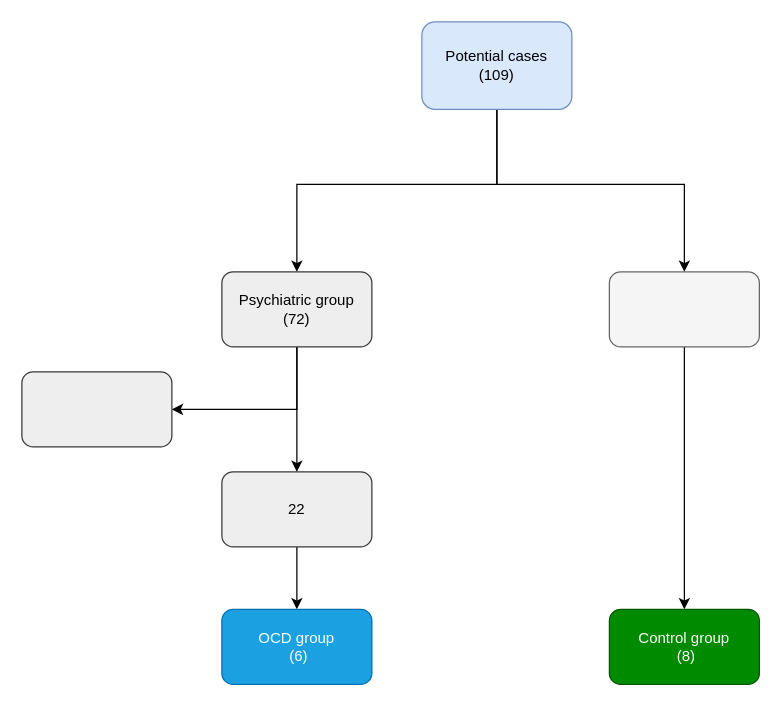
The diagram is 781 pixels wide and 706 high, and some of its shapes have lost their labels. Here are the shapes that lost their labels. From the top down, the box of each, then its label:
(608, 271, 759, 347): Control group (37)
(21, 371, 172, 447): Other disorders (50)
